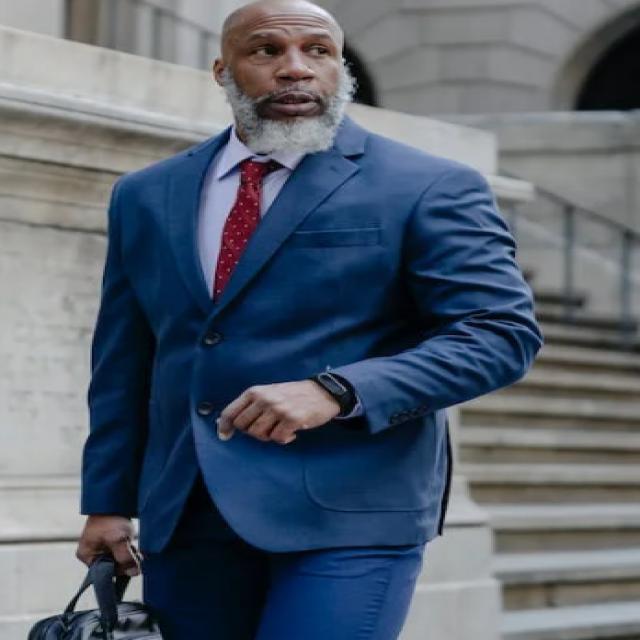Watch: (305, 364, 363, 420)
